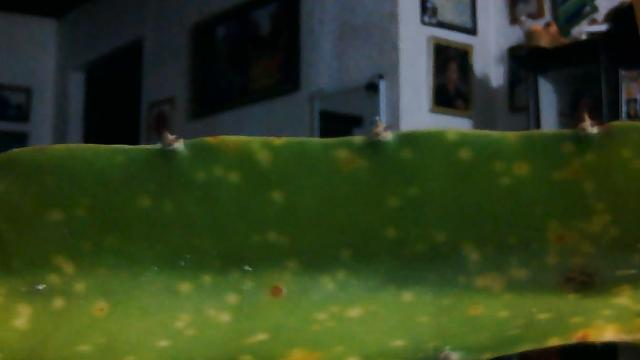stemcanker: (1, 128, 640, 358)
